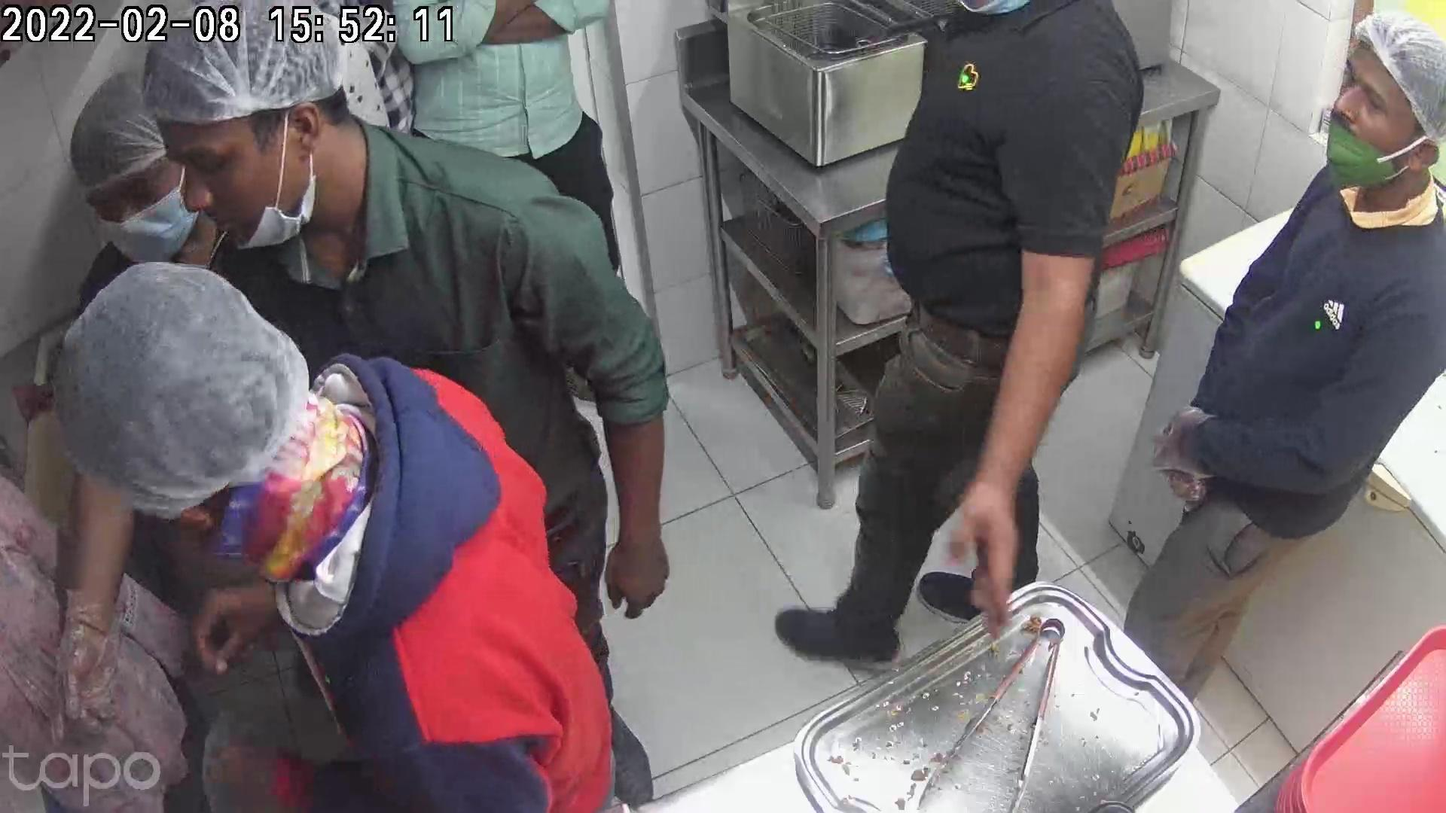no_gloves: (610, 502, 668, 620)
